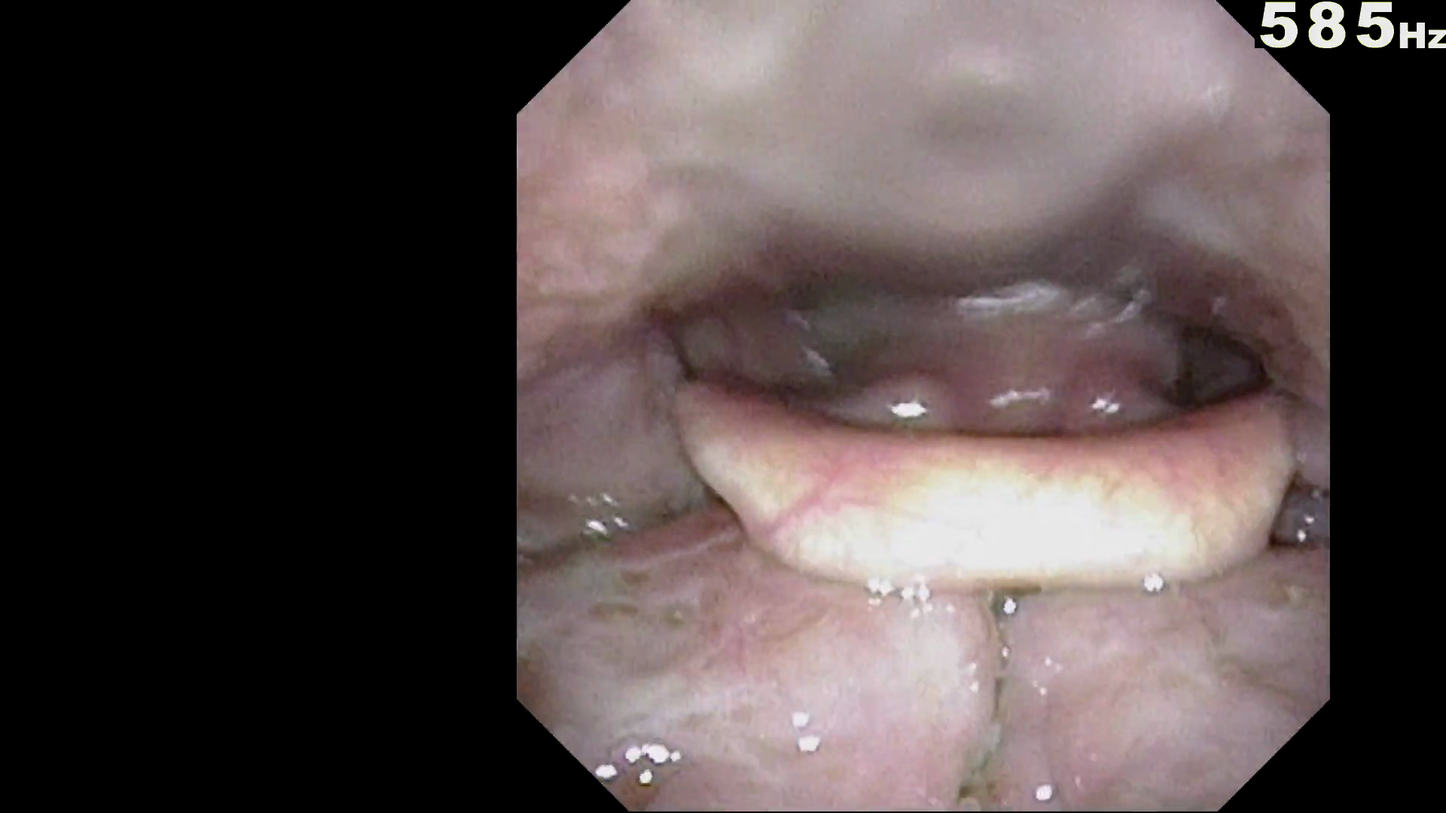epiglottis: (646, 336, 1326, 637)
trachea: (935, 424, 1065, 497)
